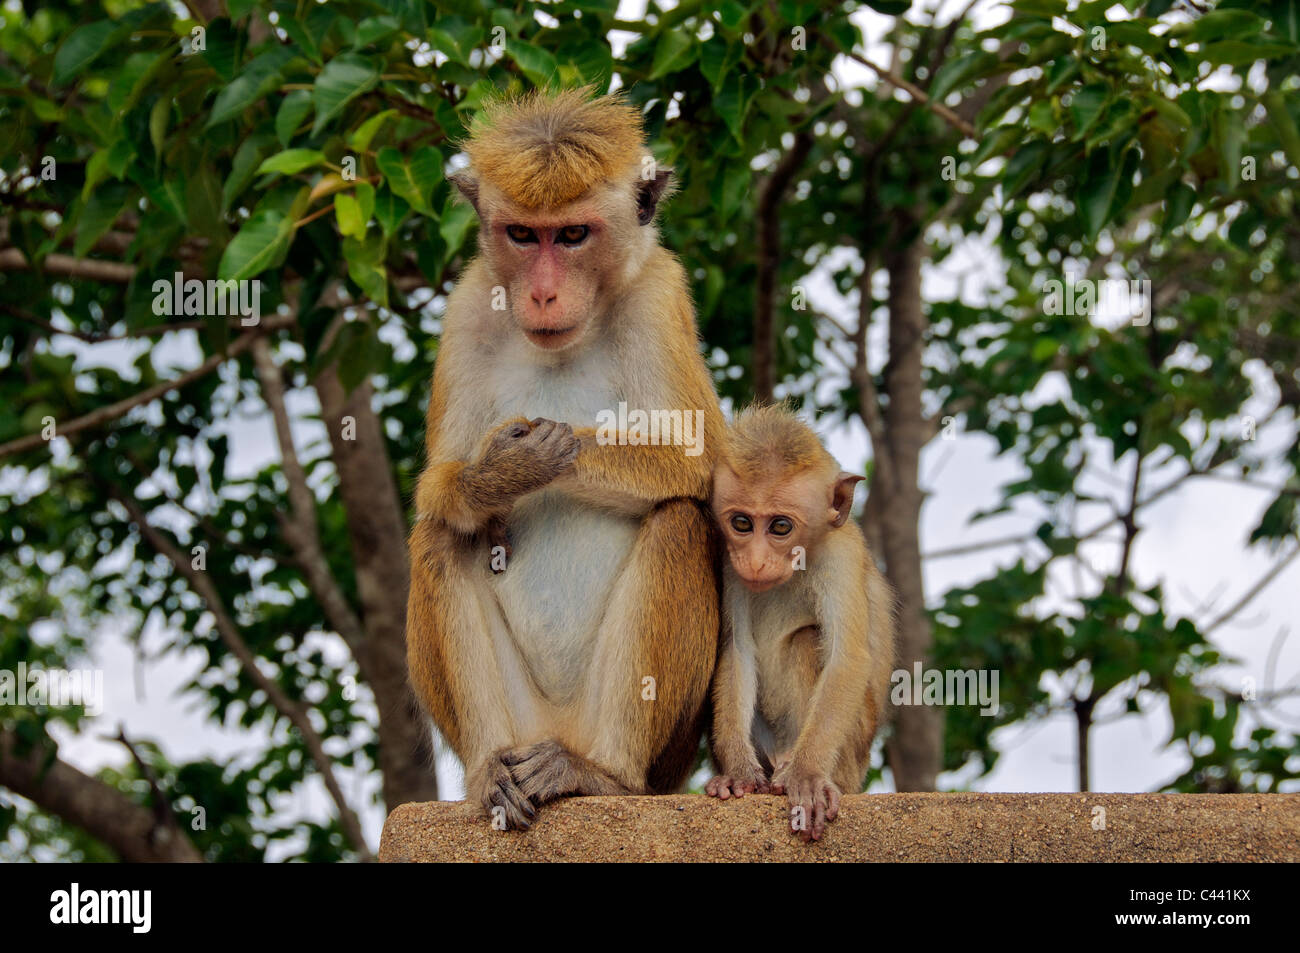Monkey: (380, 70, 725, 810)
